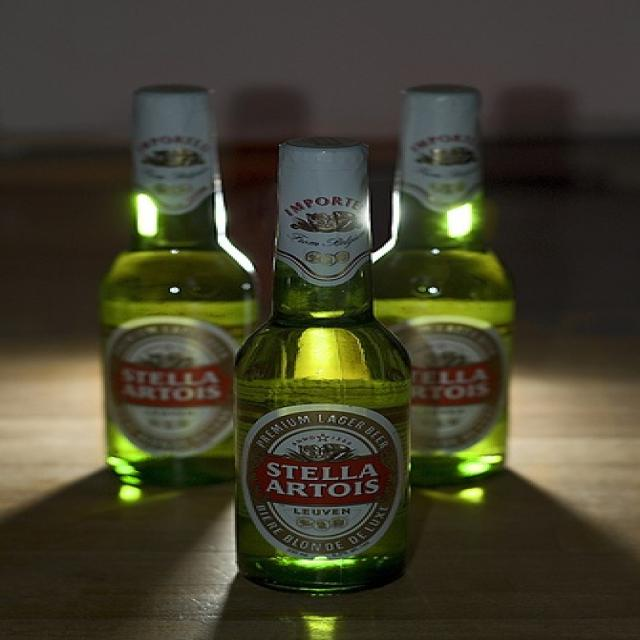bottle: (224, 137, 418, 599), (94, 81, 271, 495), (340, 81, 516, 489)
